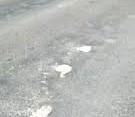pothole: (53, 61, 74, 77), (32, 103, 55, 117), (78, 42, 93, 54)
